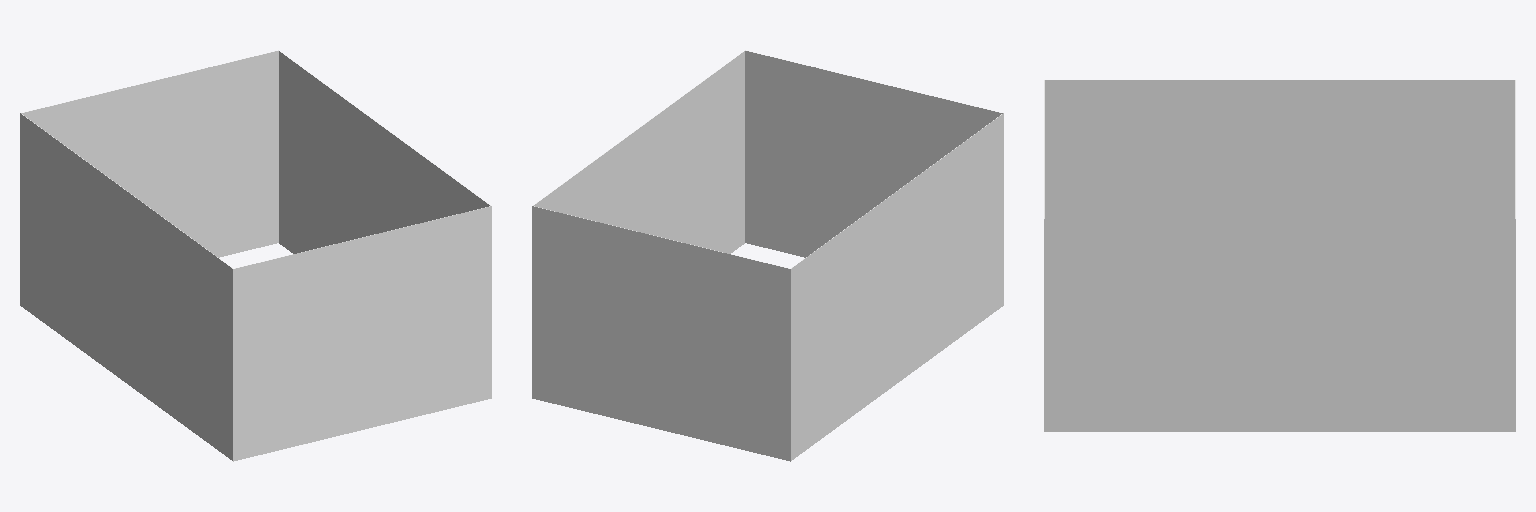
robot.urdf — border:
<?xml version="1.0" encoding="utf-8"?>
<!-- This URDF was automatically created by SolidWorks to URDF Exporter! Originally created by [author] ([email redacted]) 
     Commit Version: 1.6.0-4-g7f85cfe  Build Version: 1.6.7995.38578
     For more information, please see http://wiki.ros.org/sw_urdf_exporter -->
<robot
  name="border">
  <link
    name="base_link">
    <inertial>
      <origin
        xyz="0 0 0"
        rpy="0 0 0" />
      <mass
        value="170.199999999991" />
      <inertia
        ixx="1520.33950666658"
        ixy="-3.88578058618805E-13"
        ixz="6.23210792601473E-12"
        iyy="4108.6393466664"
        iyz="3.73497529200974E-16"
        izz="2595.39150666649" />
    </inertial>
    <visual>
      <origin
        xyz="0 0 0"
        rpy="0 0 0" />
      <geometry>
        <mesh
          filename="./meshes/base_link.STL" />
      </geometry>
      <material
        name="">
        <color
          rgba="1 1 1 1" />
      </material>
    </visual>
    <collision>
      <origin
        xyz="0 0 0"
        rpy="1.57 0 0" />
      <geometry>
        <mesh
          filename="./meshes/base_link.STL" />
      </geometry>
    </collision>
  </link>
</robot>

--- Facts derived from the render (not from the file) ---
3 views of the same robot in one strip: view 1: azimuth 30°, elevation 25°; view 2: azimuth 150°, elevation 25°; view 3: azimuth 270°, elevation 25° (orthographic).
Model border with 1 links and 0 joints (none), rooted at base_link, posed all joints at 0.
Links seen in each view (by area): view 1: base_link; view 2: base_link; view 3: base_link.
Link boxes in pixels (<box>): base_link: <box>20,50,491,461</box>; base_link: <box>532,50,1003,461</box>; base_link: <box>1044,80,1515,431</box>.
Bounding box of the posed robot: 7.02 × 10.02 × 5 m (x, y, z).
Meshes: 1 distinct files referenced, 1 mesh visuals loaded (1 binary STL).
